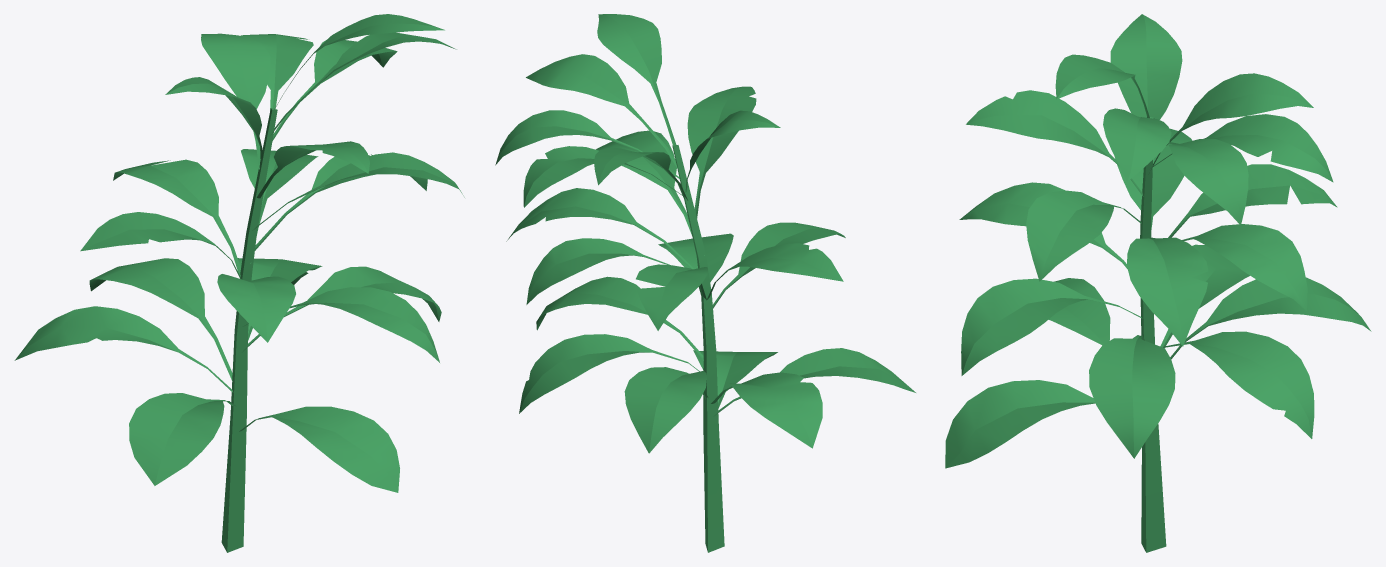
The model's file is plant_rubber_B.fbx.
3 renders of one model, left to right at view 1: azimuth 30°, elevation 25°; view 2: azimuth 150°, elevation 25°; view 3: azimuth 270°, elevation 25°, orthographic. The views are drawn at different scales.
Parts seen in each view (by area): view 1: plant_rubber_A_leaf_34, plant_rubber_B_twig, plant_rubber_A_leaf_26, plant_rubber_A_leaf_33, plant_rubber_A_leaf_29, plant_rubber_A_leaf_23, plant_rubber_A_leaf_40, plant_rubber_A_leaf_38, plant_rubber_A_leaf_28, plant_rubber_A_leaf_36, plant_rubber_A_leaf_39, plant_rubber_A_leaf_24 (+9 smaller); view 2: plant_rubber_B_twig, plant_rubber_A_leaf_29, plant_rubber_A_leaf_33, plant_rubber_A_leaf_42, plant_rubber_A_leaf_35, plant_rubber_A_leaf_27, plant_rubber_A_leaf_37, plant_rubber_A_leaf_30, plant_rubber_A_leaf_32, plant_rubber_A_leaf_38, plant_rubber_A_leaf_34, plant_rubber_A_leaf_31 (+9 smaller); view 3: plant_rubber_A_leaf_24, plant_rubber_A_leaf_26, plant_rubber_A_leaf_42, plant_rubber_A_leaf_23, plant_rubber_A_leaf_32, plant_rubber_A_leaf_25, plant_rubber_A_leaf_39, plant_rubber_A_leaf_30, plant_rubber_A_leaf_37, plant_rubber_A_leaf_41, plant_rubber_A_leaf_31, plant_rubber_A_leaf_29 (+9 smaller).
Part boxes in pixels (left/top/right/bottom): plant_rubber_A_leaf_34: left=129, top=393, right=236, bottom=485; plant_rubber_B_twig: left=221, top=108, right=277, bottom=552; plant_rubber_A_leaf_26: left=239, top=406, right=399, bottom=492; plant_rubber_A_leaf_33: left=14, top=306, right=233, bottom=392; plant_rubber_A_leaf_29: left=89, top=258, right=232, bottom=380; plant_rubber_A_leaf_23: left=243, top=287, right=439, bottom=362; plant_rubber_A_leaf_40: left=201, top=33, right=270, bottom=169; plant_rubber_A_leaf_38: left=113, top=159, right=240, bottom=276; plant_rubber_A_leaf_28: left=217, top=274, right=295, bottom=342; plant_rubber_A_leaf_36: left=80, top=212, right=241, bottom=279; plant_rubber_A_leaf_39: left=252, top=152, right=464, bottom=230; plant_rubber_A_leaf_24: left=242, top=266, right=441, bottom=352; plant_rubber_B_twig: left=672, top=145, right=724, bottom=552; plant_rubber_A_leaf_29: left=624, top=367, right=708, bottom=453; plant_rubber_A_leaf_33: left=711, top=372, right=822, bottom=448; plant_rubber_A_leaf_42: left=519, top=334, right=699, bottom=413; plant_rubber_A_leaf_35: left=597, top=14, right=676, bottom=145; plant_rubber_A_leaf_27: left=526, top=54, right=677, bottom=168; plant_rubber_A_leaf_37: left=687, top=86, right=756, bottom=218; plant_rubber_A_leaf_30: left=526, top=238, right=669, bottom=304; plant_rubber_A_leaf_32: left=506, top=188, right=694, bottom=269; plant_rubber_A_leaf_38: left=636, top=264, right=707, bottom=330; plant_rubber_A_leaf_34: left=714, top=348, right=915, bottom=415; plant_rubber_A_leaf_31: left=495, top=110, right=680, bottom=179; plant_rubber_A_leaf_24: left=1089, top=335, right=1175, bottom=458; plant_rubber_A_leaf_26: left=945, top=380, right=1095, bottom=468; plant_rubber_A_leaf_42: left=1163, top=331, right=1314, bottom=438; plant_rubber_A_leaf_23: left=961, top=278, right=1142, bottom=375; plant_rubber_A_leaf_32: left=1127, top=237, right=1208, bottom=346; plant_rubber_A_leaf_25: left=1110, top=14, right=1182, bottom=119; plant_rubber_A_leaf_39: left=1026, top=190, right=1141, bottom=281; plant_rubber_A_leaf_30: left=1182, top=224, right=1307, bottom=311; plant_rubber_A_leaf_37: left=966, top=90, right=1143, bottom=196; plant_rubber_A_leaf_41: left=1150, top=114, right=1333, bottom=182; plant_rubber_A_leaf_31: left=1168, top=139, right=1248, bottom=225; plant_rubber_A_leaf_29: left=1170, top=277, right=1371, bottom=359.
Bounding box in the file's own units: 99.62 × 130 × 92.23.
